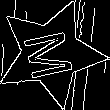M_E: (20, 25, 81, 82)
